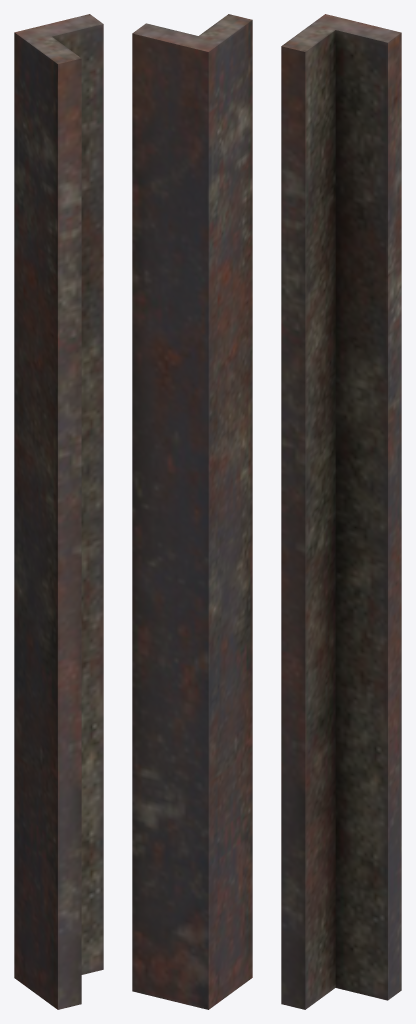
Rendered from V_Pillar_01.FBX.
3 views of the same model, side by side, from view 1: azimuth 30°, elevation 25°; view 2: azimuth 150°, elevation 25°; view 3: azimuth 330°, elevation 25° (orthographic).
Parts seen in each view (by area): view 1: V_Pillar_01; view 2: V_Pillar_01; view 3: V_Pillar_01.
Boxes of the visible parts, box(x1,y1,x2,y2) form: V_Pillar_01: box(14, 14, 103, 1009); V_Pillar_01: box(132, 14, 252, 1009); V_Pillar_01: box(281, 14, 401, 1009).
Bounding box in the file's own units: 47.64 × 571 × 47.64.
